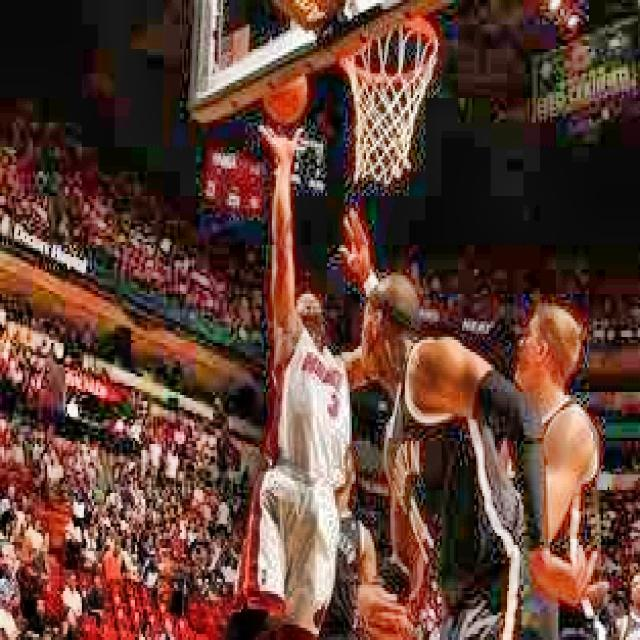rim: (342, 11, 439, 182)
